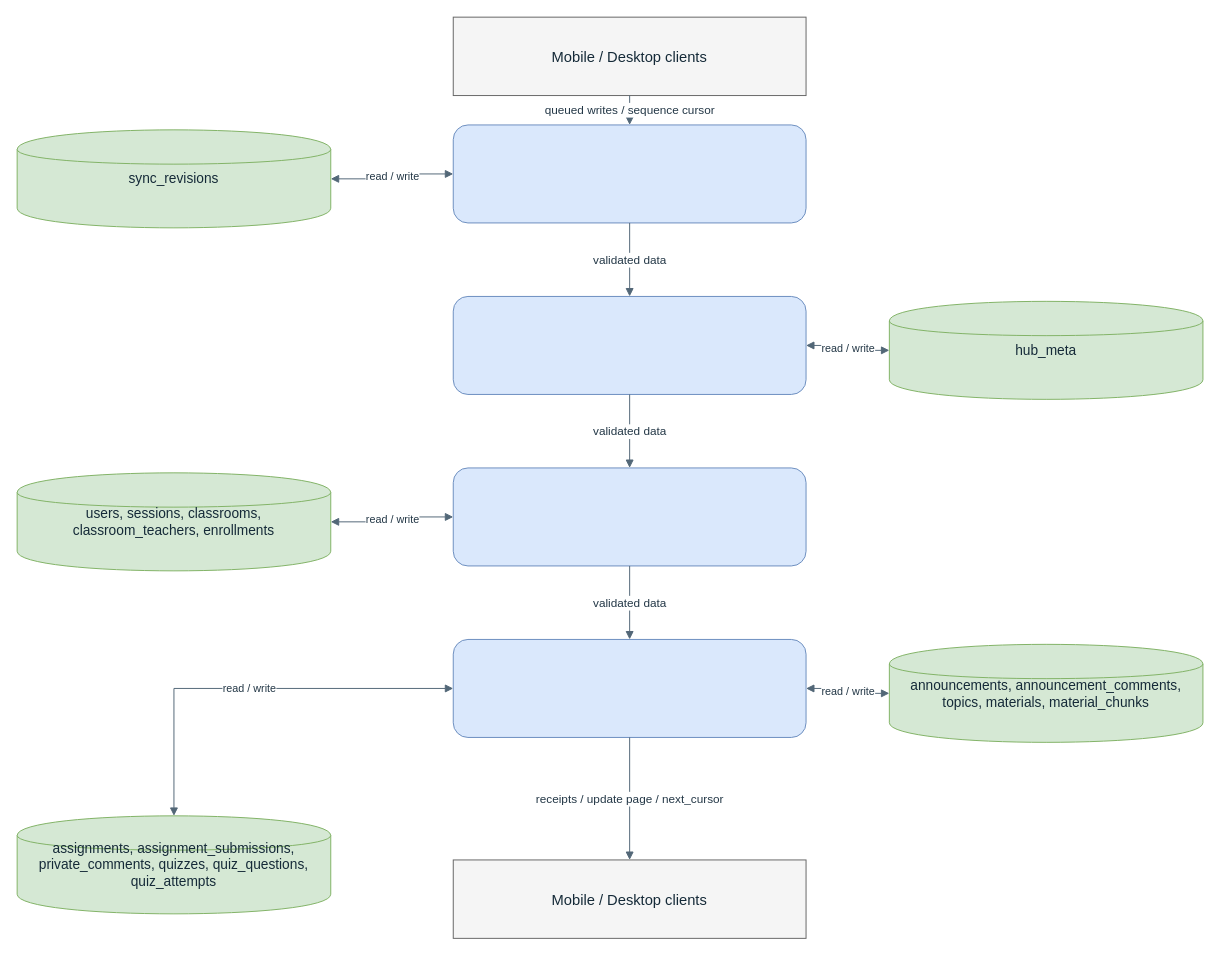
Image size: 1220x956. Some labels were removed from this diagram. Each missing label, with the centre of its shape:
"7.0.1 Authenticate and validate cursor scope" belongs at pixel 629 173.
"7.0.2 Apply queued writes through owning process" belongs at pixel 629 344.
"7.0.3 Select authorized changes after sequence cursor" belongs at pixel 629 516.
"7.0.4 Commit receipt and return next cursor" belongs at pixel 629 687.
